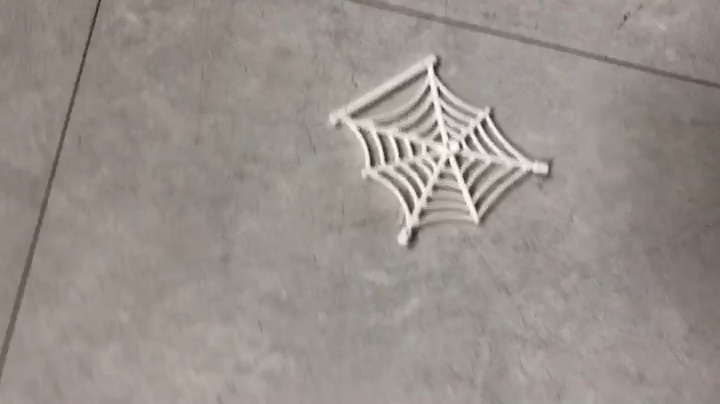web: (327, 53, 554, 250)
